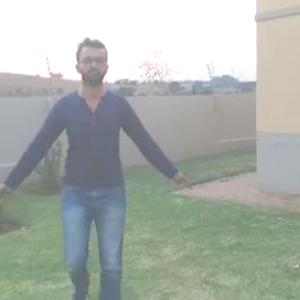land: (1, 38, 185, 286)
